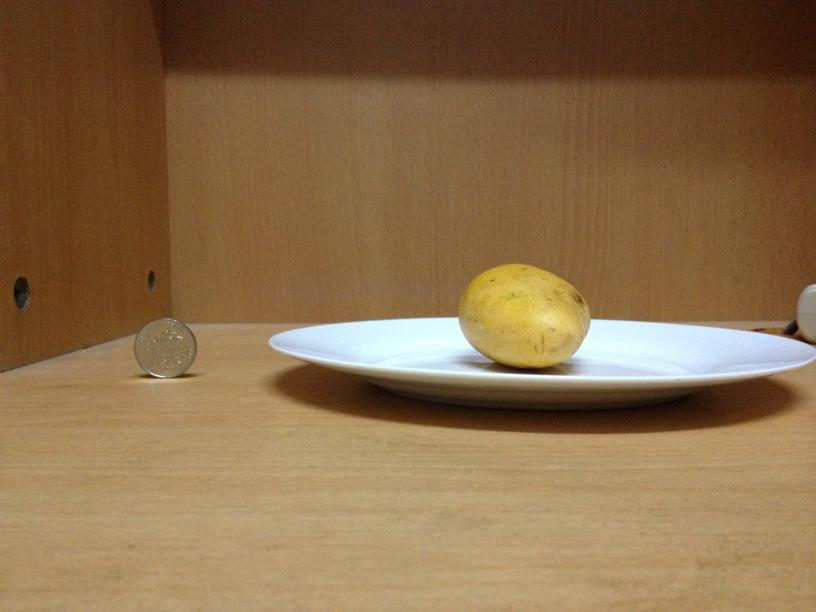coin: (135, 319, 197, 378)
mango: (459, 263, 589, 369)
